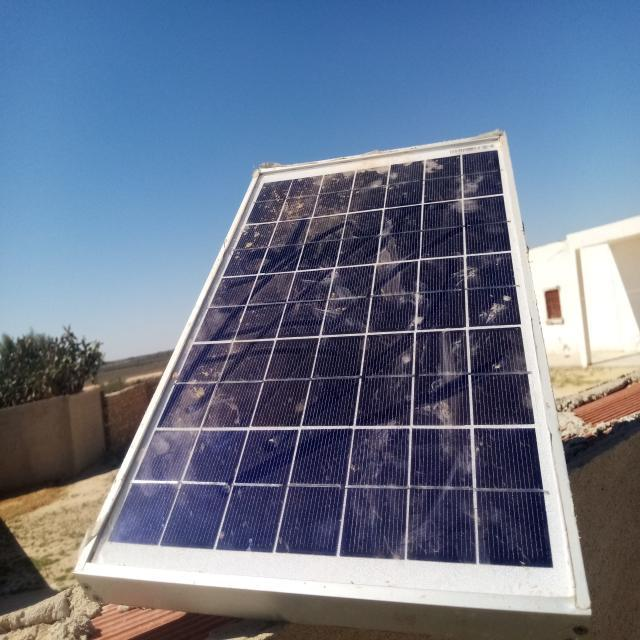faulty: (83, 133, 583, 607)
